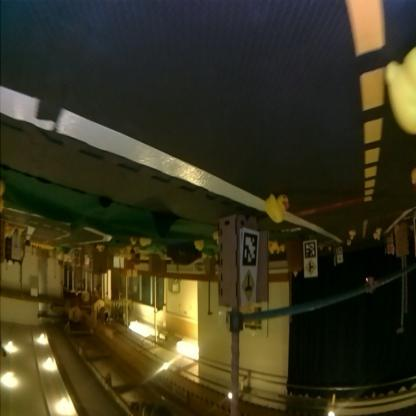Duckie: (266, 194, 290, 225)
Intersection sign: (244, 276, 256, 302), (305, 260, 317, 274)
QR code: (243, 234, 259, 268), (305, 243, 317, 259)
Traffic light: (366, 277, 376, 295)
